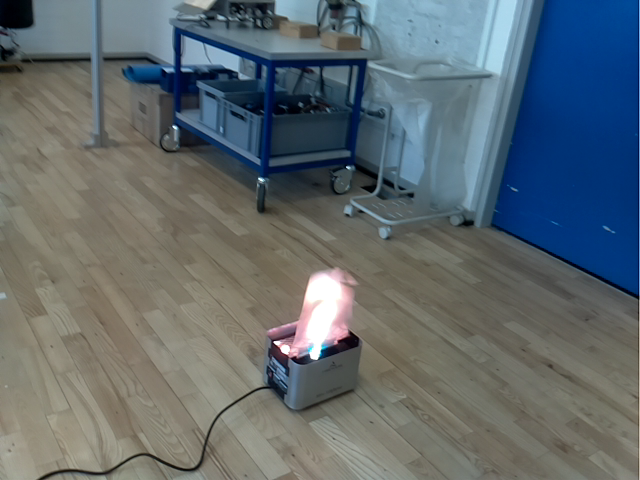fire: (286, 266, 357, 360)
